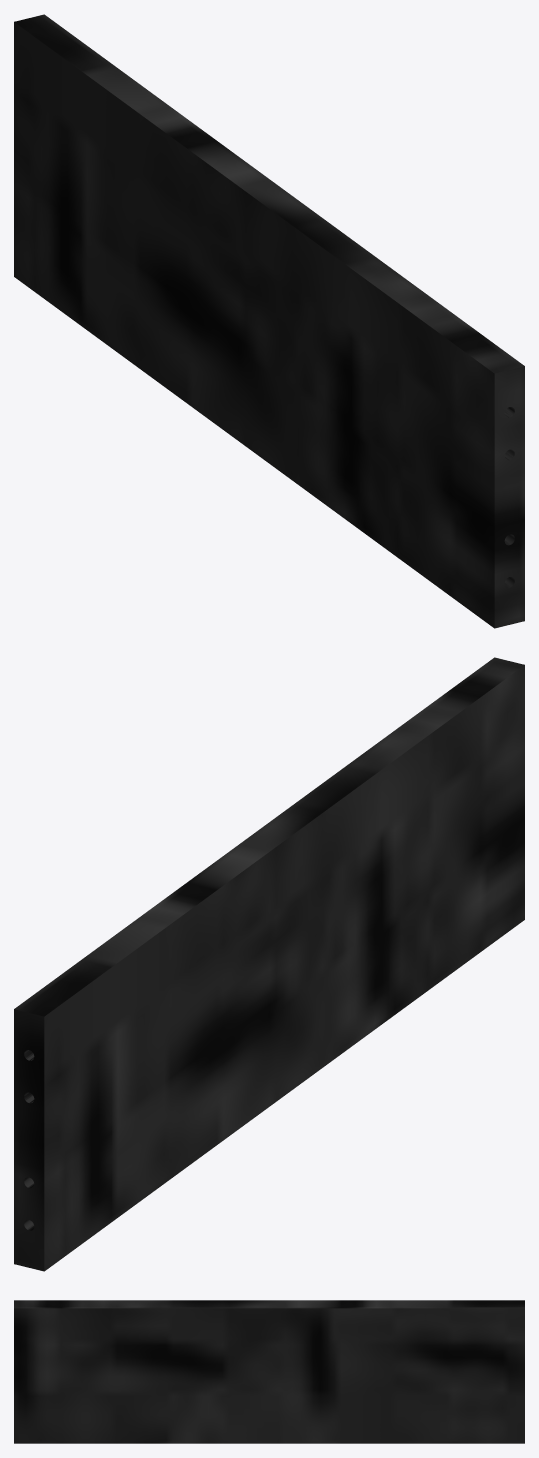
File: original-12.obj
3 views of the same model, one above another, from view 1: azimuth 30°, elevation 25°; view 2: azimuth 150°, elevation 25°; view 3: azimuth 270°, elevation 25° (orthographic). The views are drawn at different scales.
Parts seen in each view (by area): view 1: apron2_1/apron2/mesh24/mesh24-geometry#mesh24-geometry; view 2: apron2_1/apron2/mesh24/mesh24-geometry#mesh24-geometry; view 3: apron2_1/apron2/mesh24/mesh24-geometry#mesh24-geometry.
Boxes of the visible parts, x1,y1,x2,y2 form: apron2_1/apron2/mesh24/mesh24-geometry#mesh24-geometry: (14, 14, 524, 628); apron2_1/apron2/mesh24/mesh24-geometry#mesh24-geometry: (14, 657, 524, 1271); apron2_1/apron2/mesh24/mesh24-geometry#mesh24-geometry: (14, 1300, 524, 1443).
Size of the model in its own units: 0.024 by 0.1918 by 0.6554.
